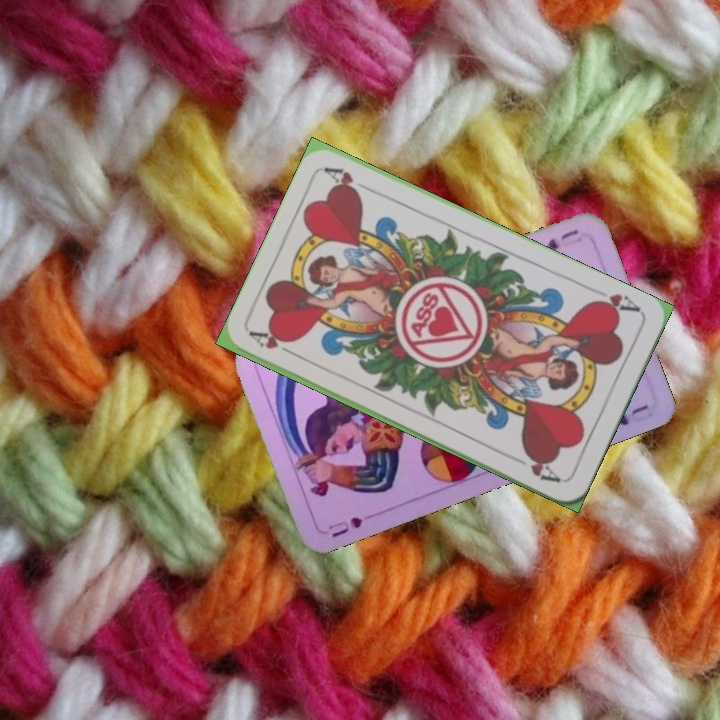HA: (246, 327, 302, 361), (585, 289, 644, 318)
SU: (324, 512, 365, 541), (543, 225, 584, 253)
